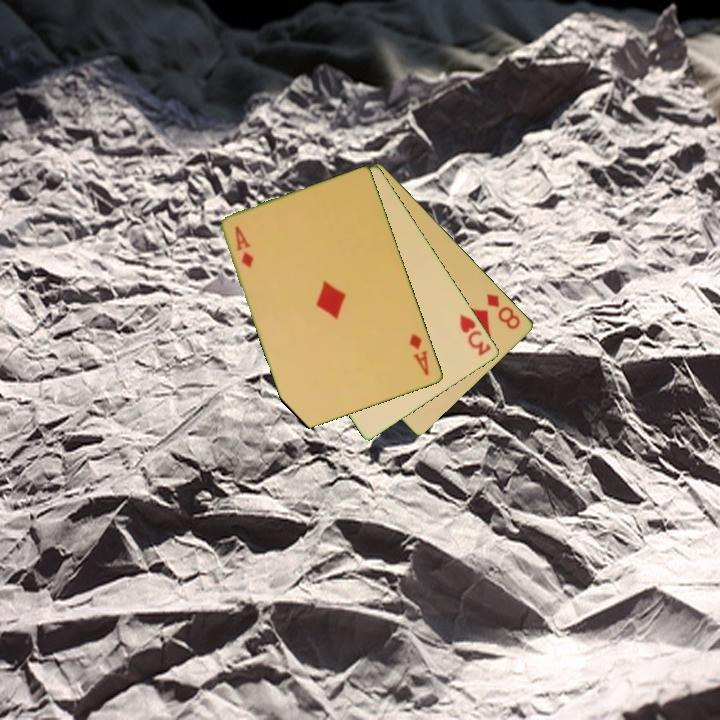3h: (456, 311, 494, 359)
8d: (483, 290, 524, 333)
Ad: (406, 330, 432, 379), (232, 222, 257, 271)
